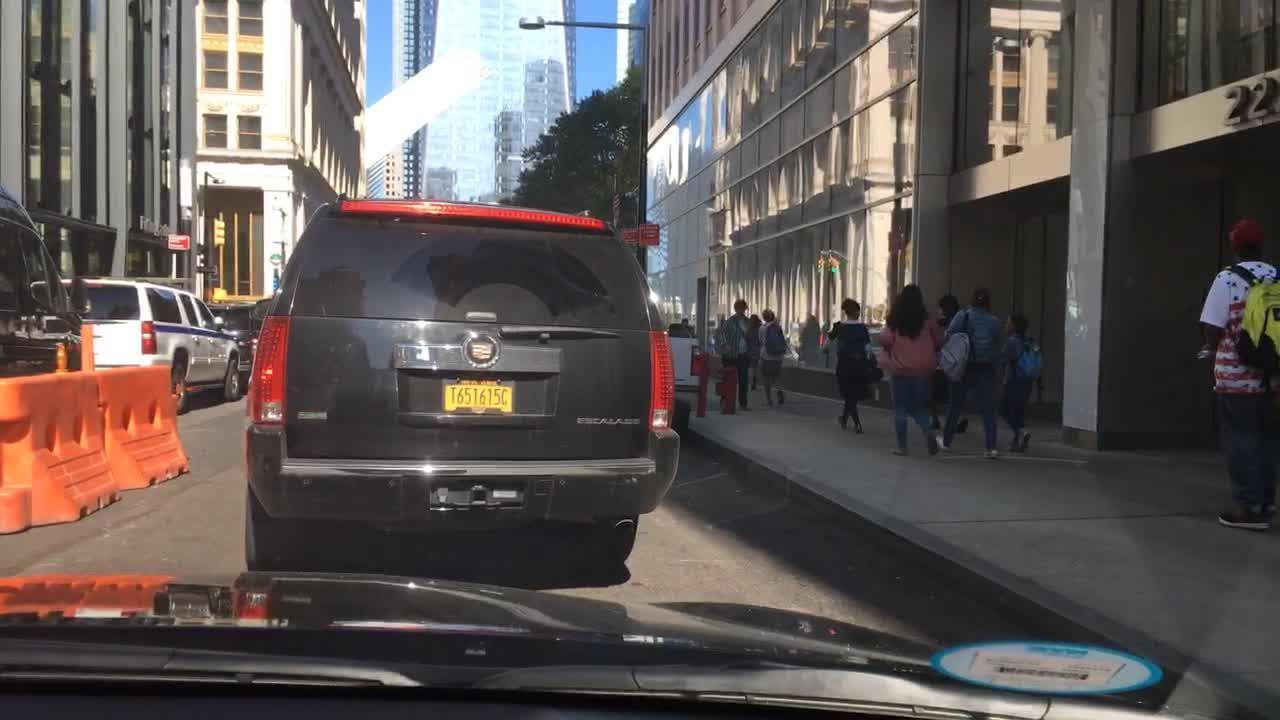cadillac: (450, 327, 519, 375)
